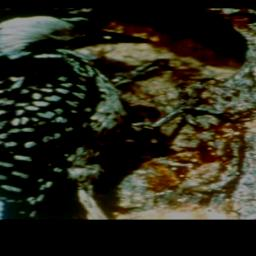Woodpecker: (0, 9, 238, 219)
